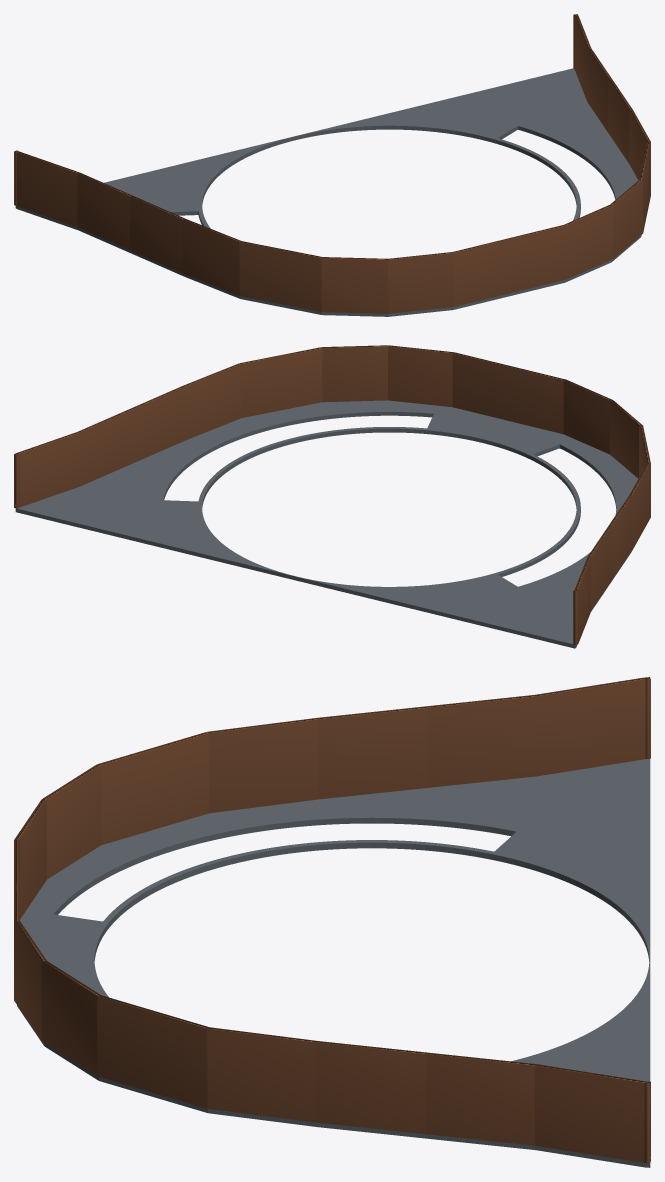
The model's file is Aft_Transition_Upper.glb.
3 renders of one model, top to bottom at view 1: azimuth 30°, elevation 25°; view 2: azimuth 150°, elevation 25°; view 3: azimuth 270°, elevation 25°, orthographic. The views are drawn at different scales.
Visible parts, largest first — view 1: Aft_hull_liner (×15), Aft_walkable_floor; view 2: Aft_hull_liner (×14), Aft_walkable_floor; view 3: Aft_hull_liner (×14), Aft_walkable_floor.
Part boxes in pixels (x1,y1,x2,y2): Aft_hull_liner (×15): [16, 15, 650, 313]; Aft_walkable_floor: [15, 68, 641, 316]; Aft_hull_liner (×14): [17, 345, 650, 643]; Aft_walkable_floor: [15, 400, 648, 648]; Aft_hull_liner (×14): [14, 677, 645, 1162]; Aft_walkable_floor: [17, 759, 650, 1167].
Bounding box in the file's own units: 35.29 × 3.43 × 23.33.
